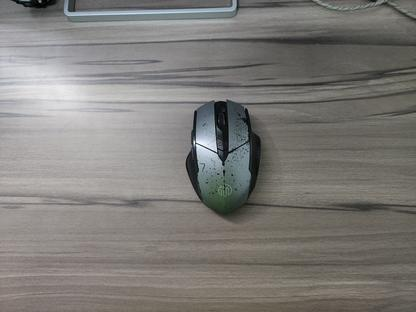mouse: (184, 98, 261, 217)
